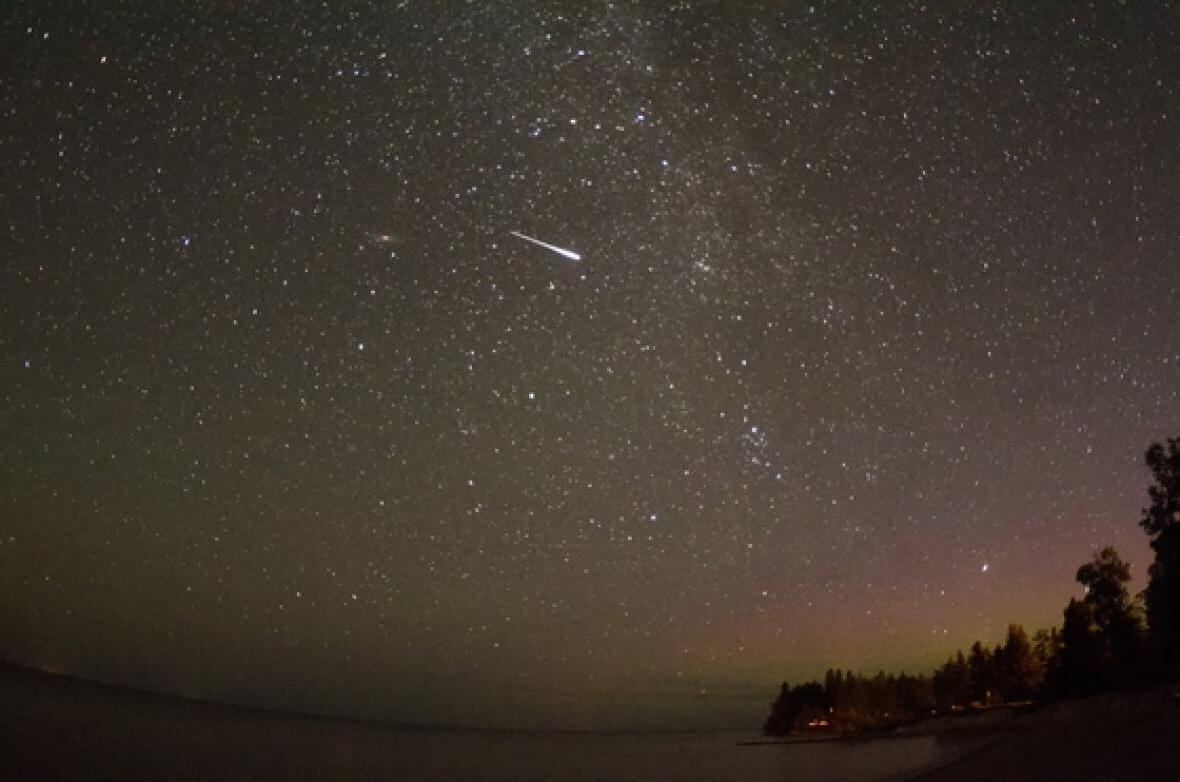meteorite: (461, 226, 629, 270)
